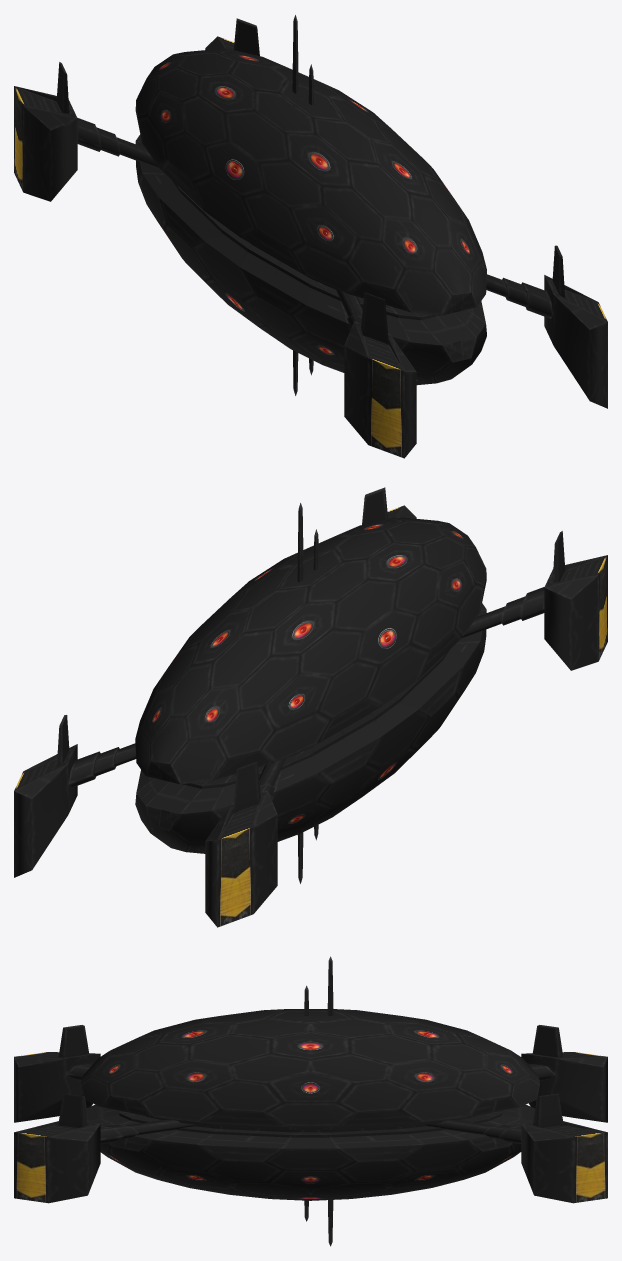
File: ship4.glb
3 views of the same model, one above another, from view 1: azimuth 30°, elevation 25°; view 2: azimuth 150°, elevation 25°; view 3: azimuth 270°, elevation 25° (orthographic). The views are drawn at different scales.
Visible parts, largest first — view 1: Beholder; view 2: Beholder; view 3: Beholder.
Boxes of the visible parts, <box> form: Beholder: <box>14,15,607,458</box>; Beholder: <box>14,487,607,927</box>; Beholder: <box>14,956,607,1246</box>.
Bounding box in the file's own units: 12.22 × 19.37 × 35.88.
Materials: 1 (1 with a texture image).
